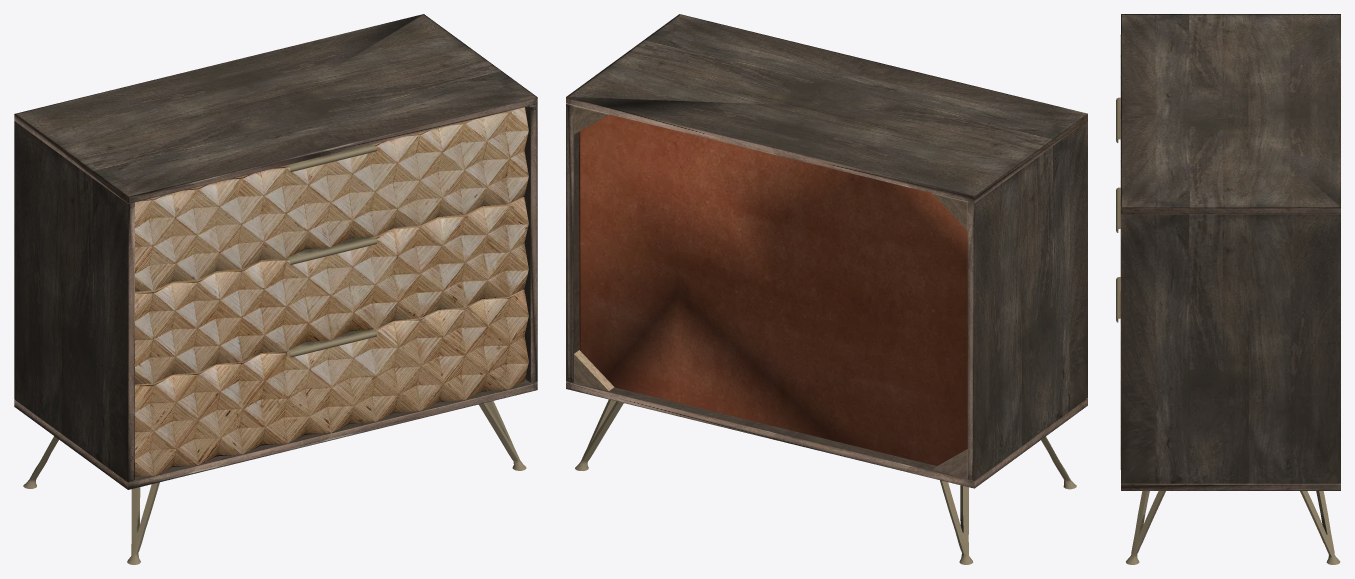
File: B07HSH4WFB.glb
3 views of the same model, side by side, from view 1: azimuth 30°, elevation 25°; view 2: azimuth 150°, elevation 25°; view 3: azimuth 270°, elevation 25° (orthographic). The views are drawn at different scales.
Visible parts, largest first — view 1: RootNode; view 2: RootNode; view 3: RootNode.
Part boxes in pixels (<box>): RootNode: <box>14,14,537,564</box>; RootNode: <box>566,14,1087,564</box>; RootNode: <box>1116,14,1340,564</box>.
Size of the model in its own units: 0.9228 by 0.8012 by 0.453.
Materials: 1 (1 with a texture image).
